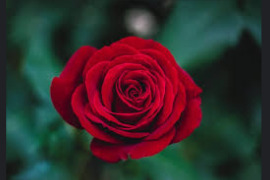RedRose: (51, 36, 202, 158)
